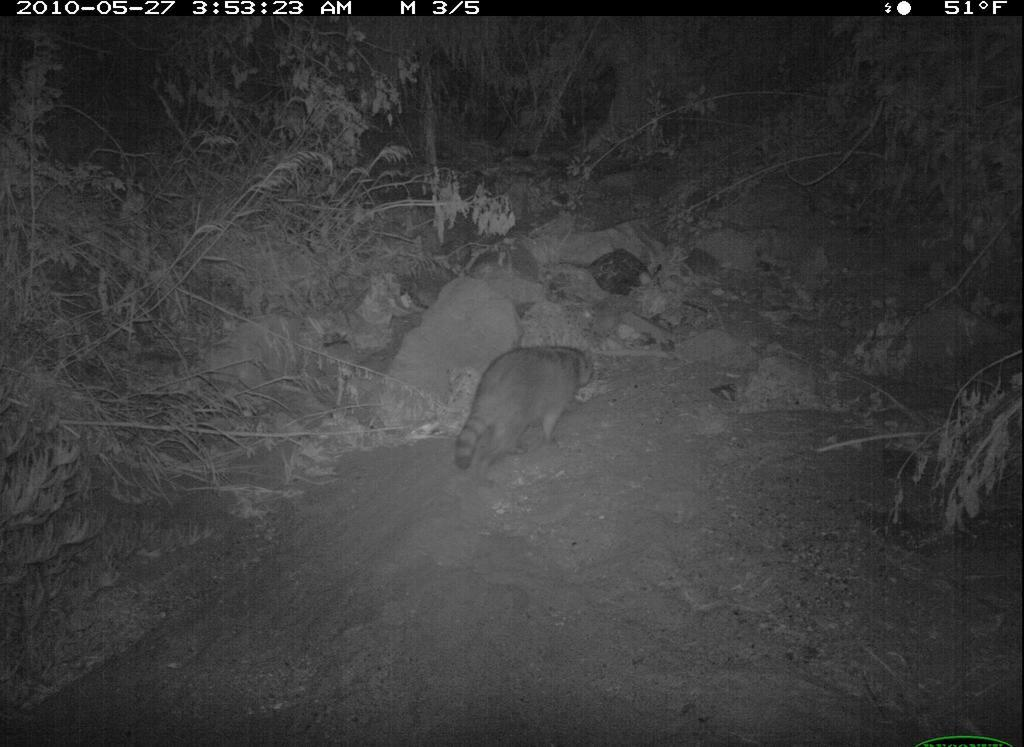raccoon: (451, 336, 612, 482)
